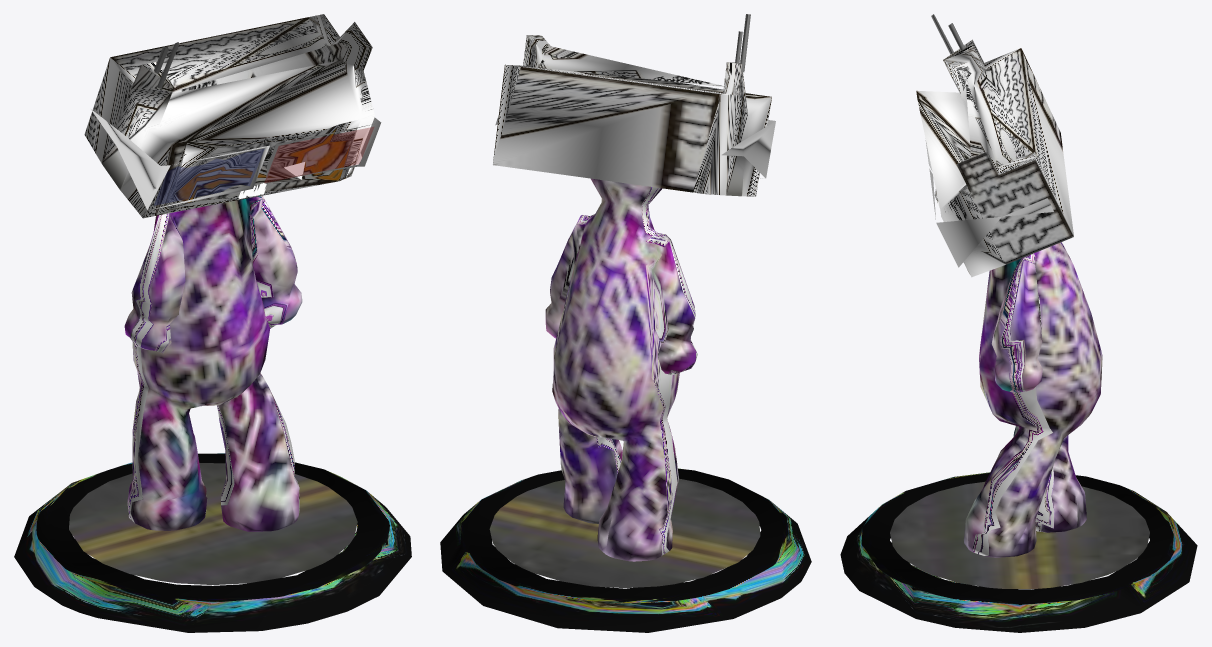
3 renders of one model, left to right at view 1: azimuth 30°, elevation 25°; view 2: azimuth 150°, elevation 25°; view 3: azimuth 270°, elevation 25°, orthographic. The views are drawn at different scales.
Size of the model in its own units: 1.45 by 2.25 by 1.44.
Materials: 9 (4 with a texture image).
